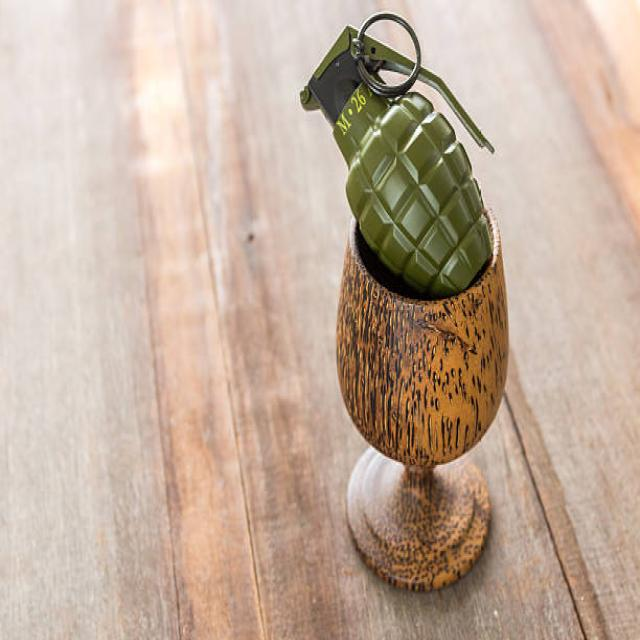grenade: (293, 7, 501, 294)
